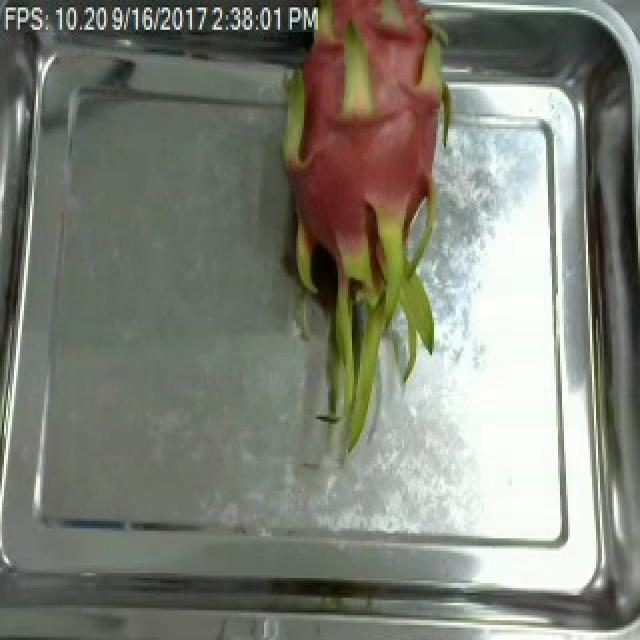fruit: (242, 5, 502, 422)
